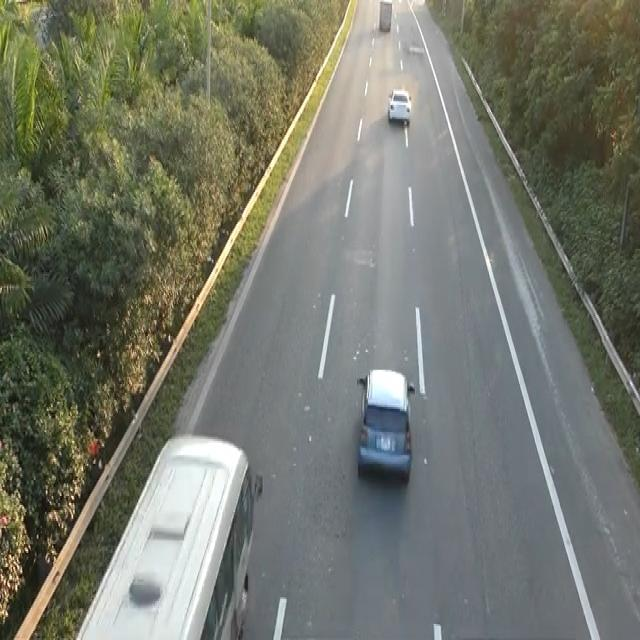bus: (354, 364, 416, 484)
jeep: (75, 428, 257, 634)
